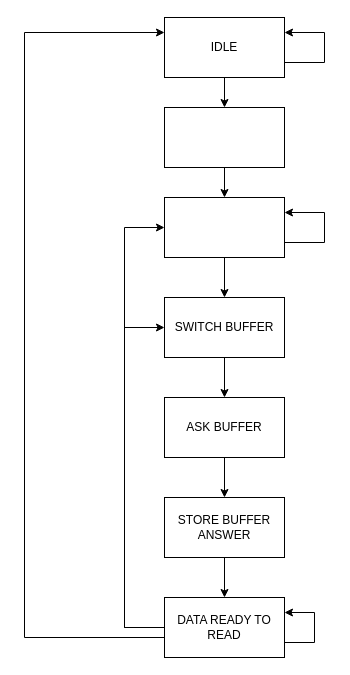
The diagram is 350 pixels wide and 675 high, and some of its shapes have lost their labels. Here are the shapes that lost their labels. From the top down, the centre of each, then its label:
At point (224, 137): "LAUNCH READ".
At point (224, 227): "WAIT FOR SWITCH".
